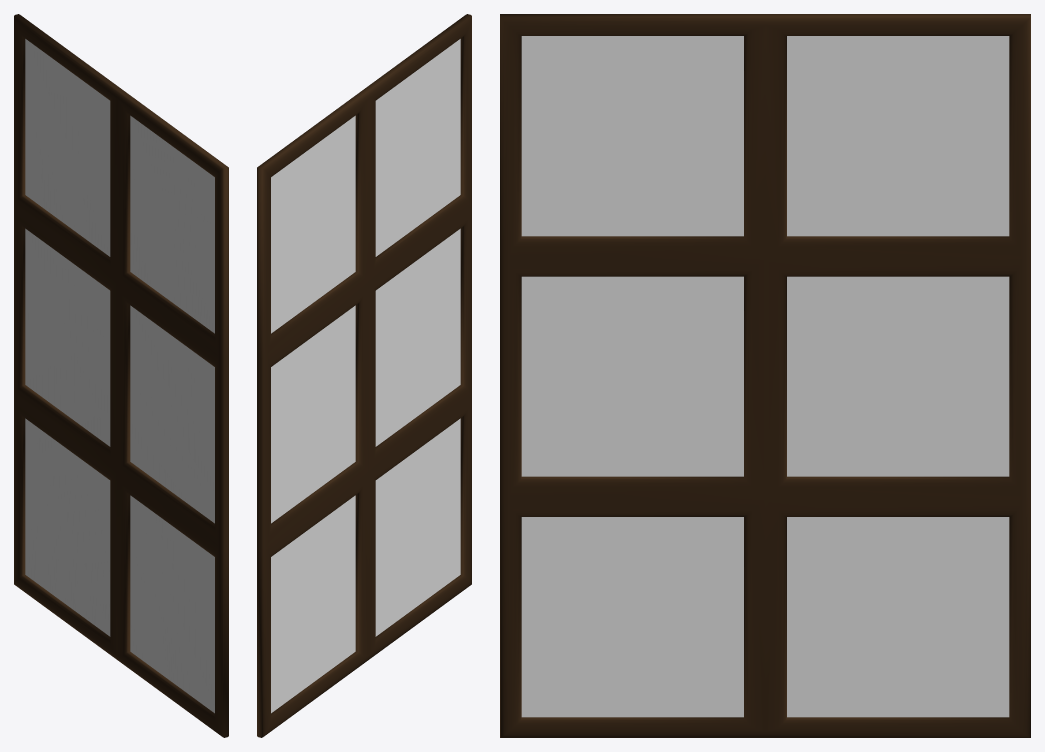
The model's file is TallWindow.glb.
3 views of the same model, side by side, from view 1: azimuth 30°, elevation 25°; view 2: azimuth 150°, elevation 25°; view 3: azimuth 270°, elevation 25° (orthographic). The views are drawn at different scales.
Parts seen in each view (by area): view 1: tall_window_glass, tall_window_frame; view 2: tall_window_glass, tall_window_frame; view 3: tall_window_glass, tall_window_frame.
Boxes of the visible parts, x1,y1,x2,y2 form: tall_window_glass: (25, 39, 214, 713); tall_window_frame: (14, 14, 228, 737); tall_window_glass: (271, 39, 460, 713); tall_window_frame: (257, 14, 471, 737); tall_window_glass: (521, 36, 1009, 717); tall_window_frame: (500, 14, 1030, 737).
Size of the model in its own units: 0.1253 by 7.89 by 5.26.
